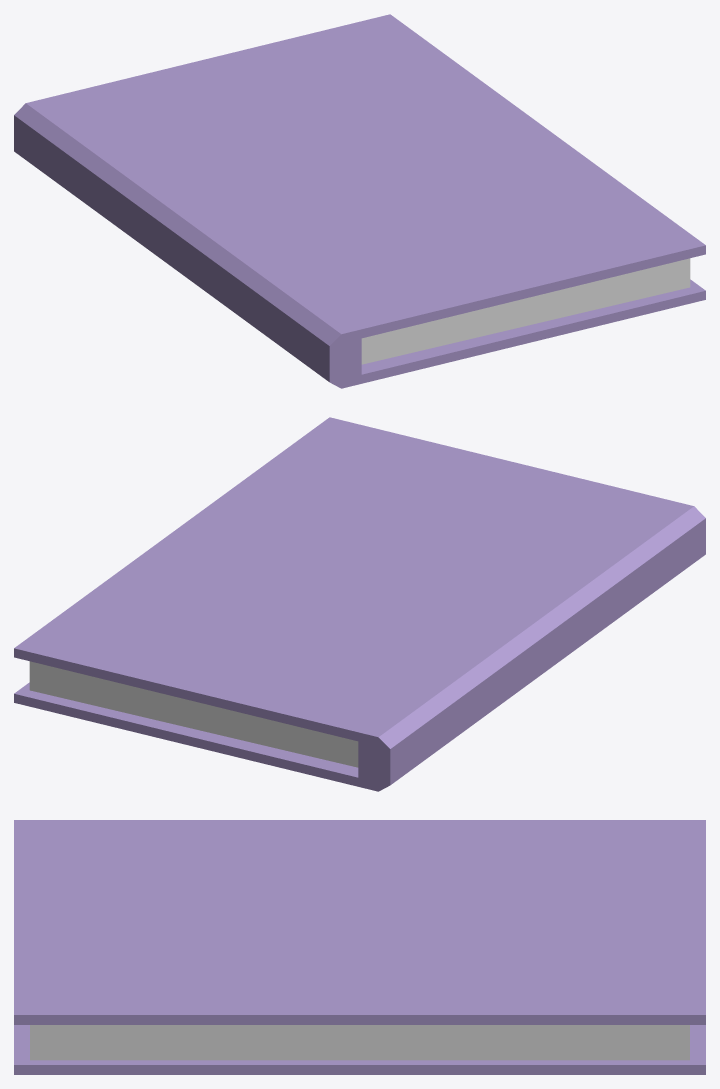
The model's file is Small Book.fbx.
3 renders of one model, top to bottom at view 1: azimuth 30°, elevation 25°; view 2: azimuth 150°, elevation 25°; view 3: azimuth 270°, elevation 25°, orthographic. The views are drawn at different scales.
Visible parts, largest first — view 1: Small Book; view 2: Small Book; view 3: Small Book.
Part boxes in pixels (x1,y1,x2,y2): Small Book: (14,14,705,388); Small Book: (14,417,705,791); Small Book: (14,820,705,1074).
Size of the model in its own units: 14.57 by 2.02 by 21.17.
